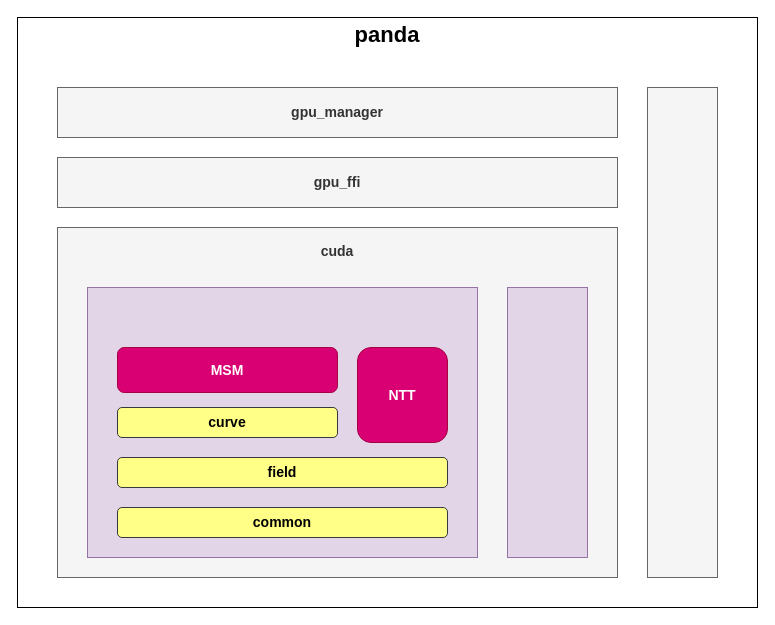
The diagram is 775 pixels wide and 625 high, and some of its shapes have lost their labels. The shapes that lost their labels are listed below. From the top down, each one's box as (x1, y1, x2, y2) in pixels, then its label:
(646, 86, 718, 578): rust tests
(86, 286, 478, 558): core
(506, 286, 588, 558): cuda test
